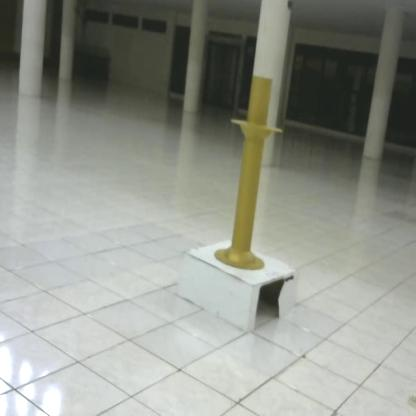pole: (212, 73, 288, 278)
